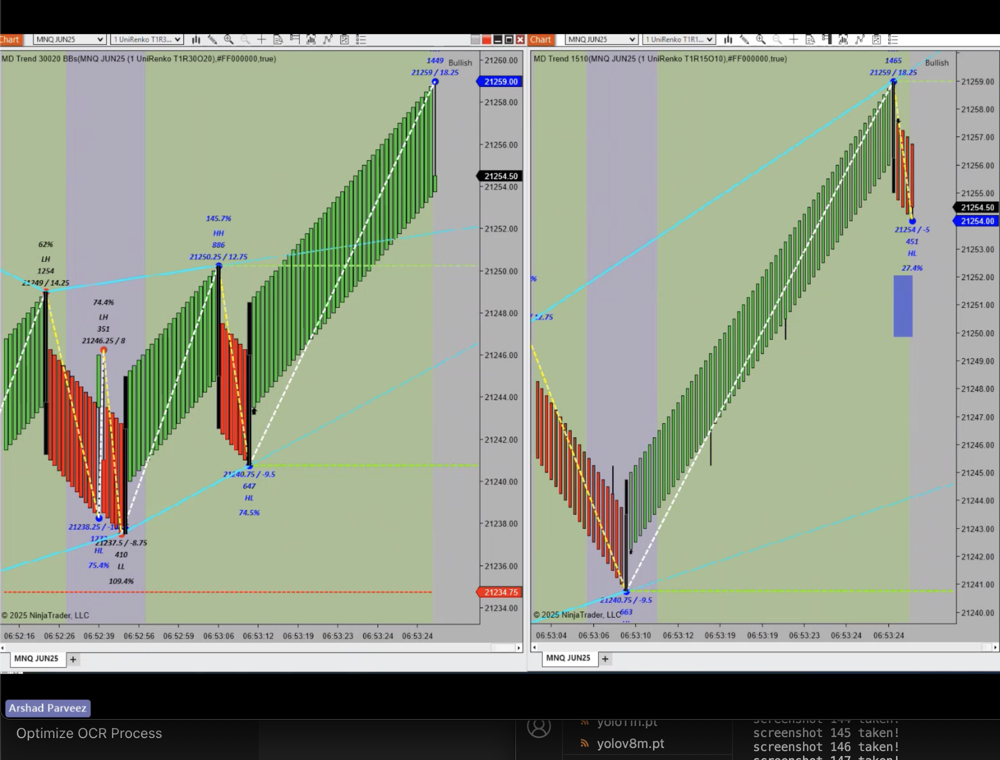HH: (206, 225, 228, 243)
HL: (241, 486, 261, 510), (902, 244, 923, 262), (88, 542, 109, 558)
LH: (93, 307, 116, 329), (35, 249, 57, 269)
LL: (111, 559, 136, 577), (601, 607, 620, 625)
